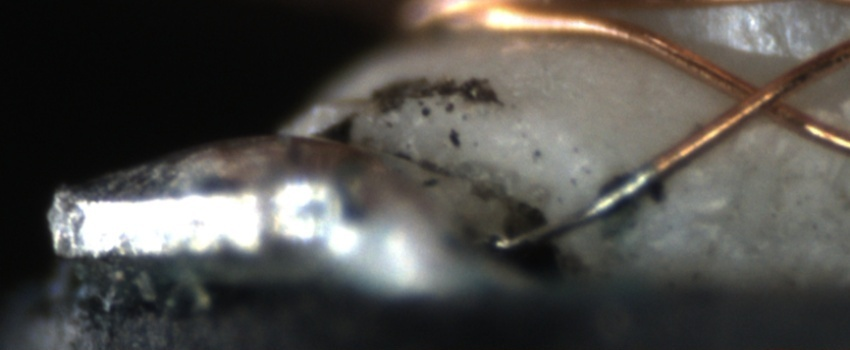CL: (714, 63, 810, 132)
TS: (505, 163, 659, 249)
